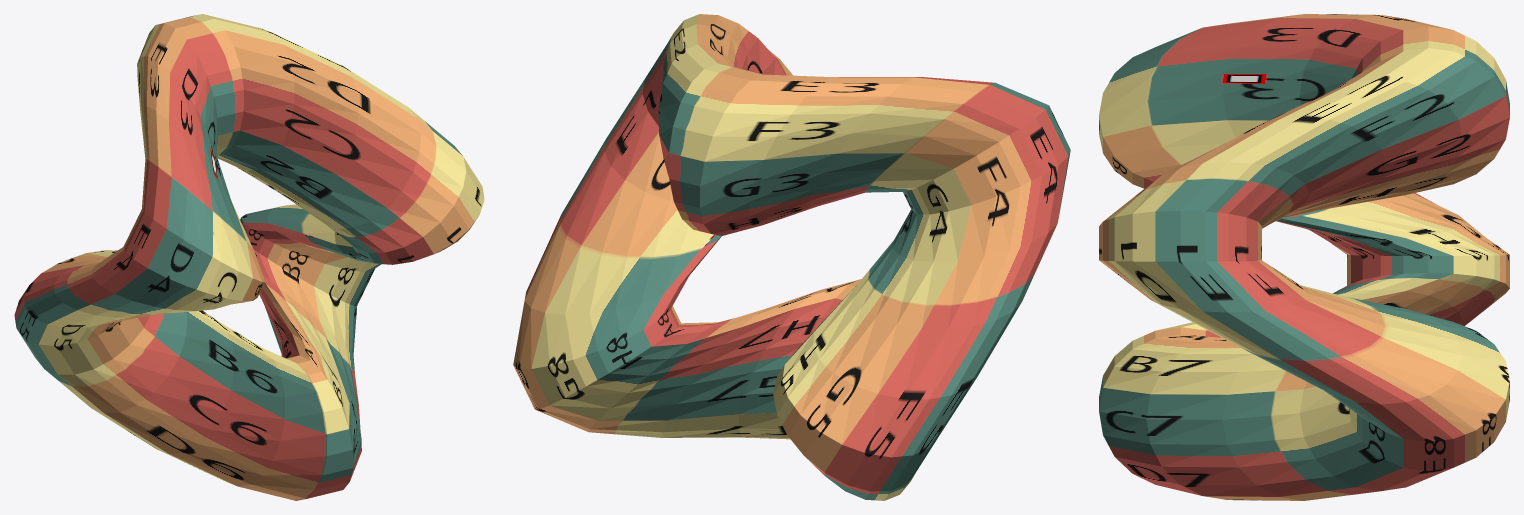
3 views of the same model, side by side, from view 1: azimuth 30°, elevation 25°; view 2: azimuth 150°, elevation 25°; view 3: azimuth 270°, elevation 25° (orthographic). The views are drawn at different scales.
Parts seen in each view (by area): view 1: Node-Mesh; view 2: Node-Mesh; view 3: Node-Mesh.
Boxes of the visible parts, x1,y1,x2,y2 form: Node-Mesh: (14,14,484,500); Node-Mesh: (513,14,1070,500); Node-Mesh: (1099,14,1509,500).
Size of the model in its own units: 3 by 2.98 by 2.52.
1 material, 1 textured.
